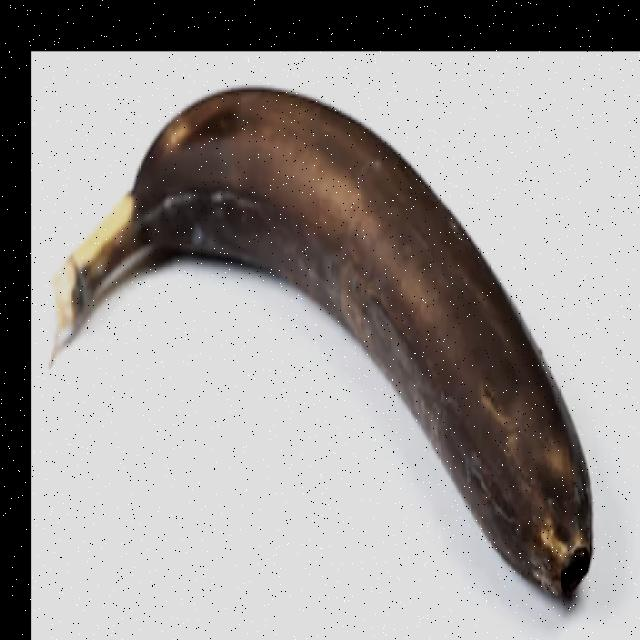Rotten: (49, 80, 605, 624)
